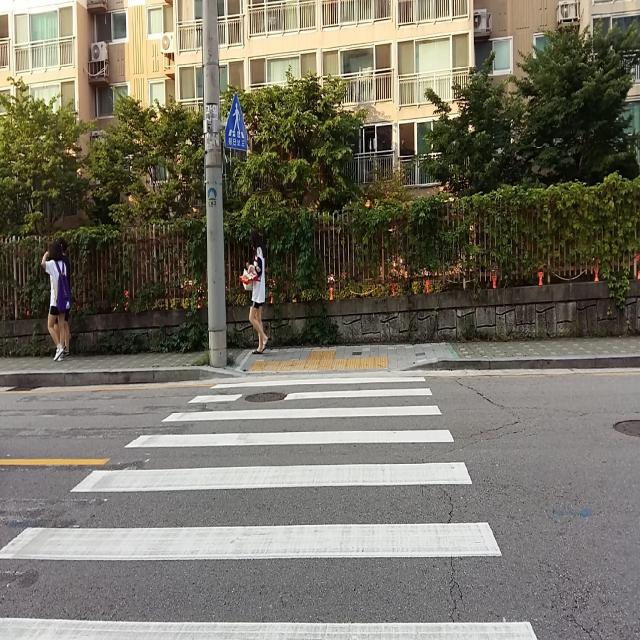횡단보도: (0, 366, 542, 640)
